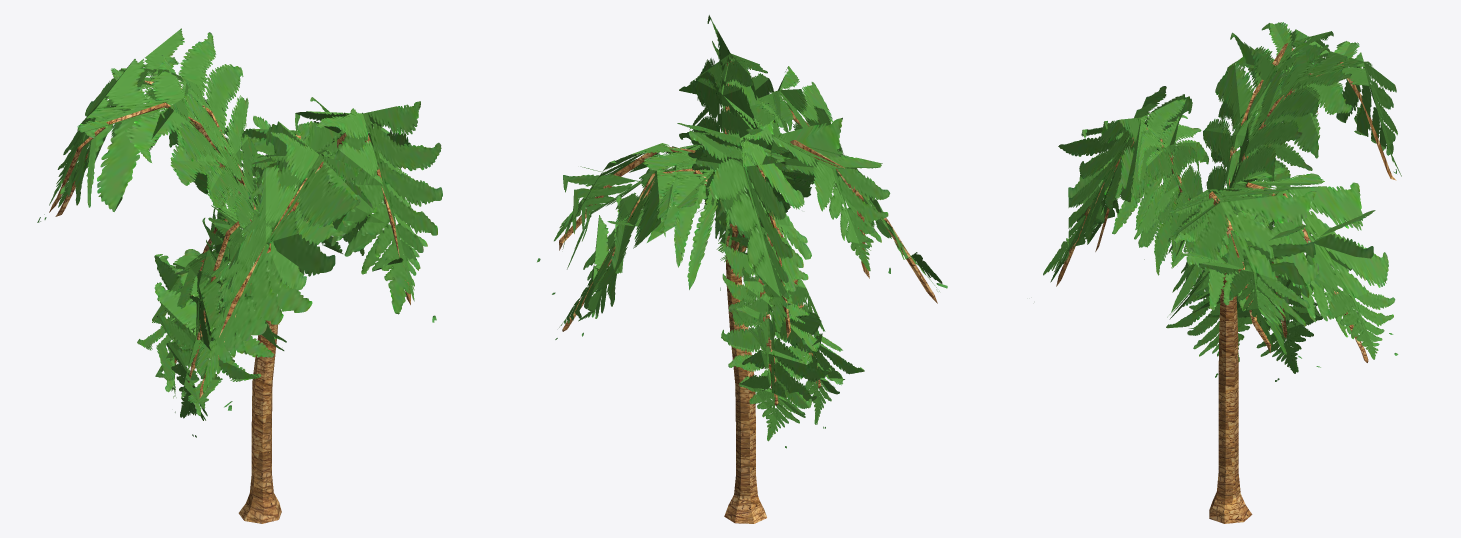
Rendered from palm-clump.lod0.glb.
3 views of the same model, side by side, from view 1: azimuth 30°, elevation 25°; view 2: azimuth 150°, elevation 25°; view 3: azimuth 270°, elevation 25° (orthographic). The views are drawn at different scales.
Visible parts, largest first — view 1: Palm Tree 3 Leaves_0, Palm Tree 3 Main_0; view 2: Palm Tree 3 Leaves_0, Palm Tree 3 Main_0; view 3: Palm Tree 3 Leaves_0, Palm Tree 3 Main_0.
Part boxes in pixels (box(x1,y1,x2,y2)): Palm Tree 3 Leaves_0: box(37, 28, 442, 437); Palm Tree 3 Main_0: box(49, 80, 410, 523); Palm Tree 3 Leaves_0: box(537, 15, 947, 448); Palm Tree 3 Main_0: box(559, 61, 937, 523); Palm Tree 3 Leaves_0: box(1043, 22, 1401, 381); Palm Tree 3 Main_0: box(1056, 43, 1396, 523).
Bounding box in the file's own units: 6.13 × 7 × 6.45.
2 materials, 2 textured.
